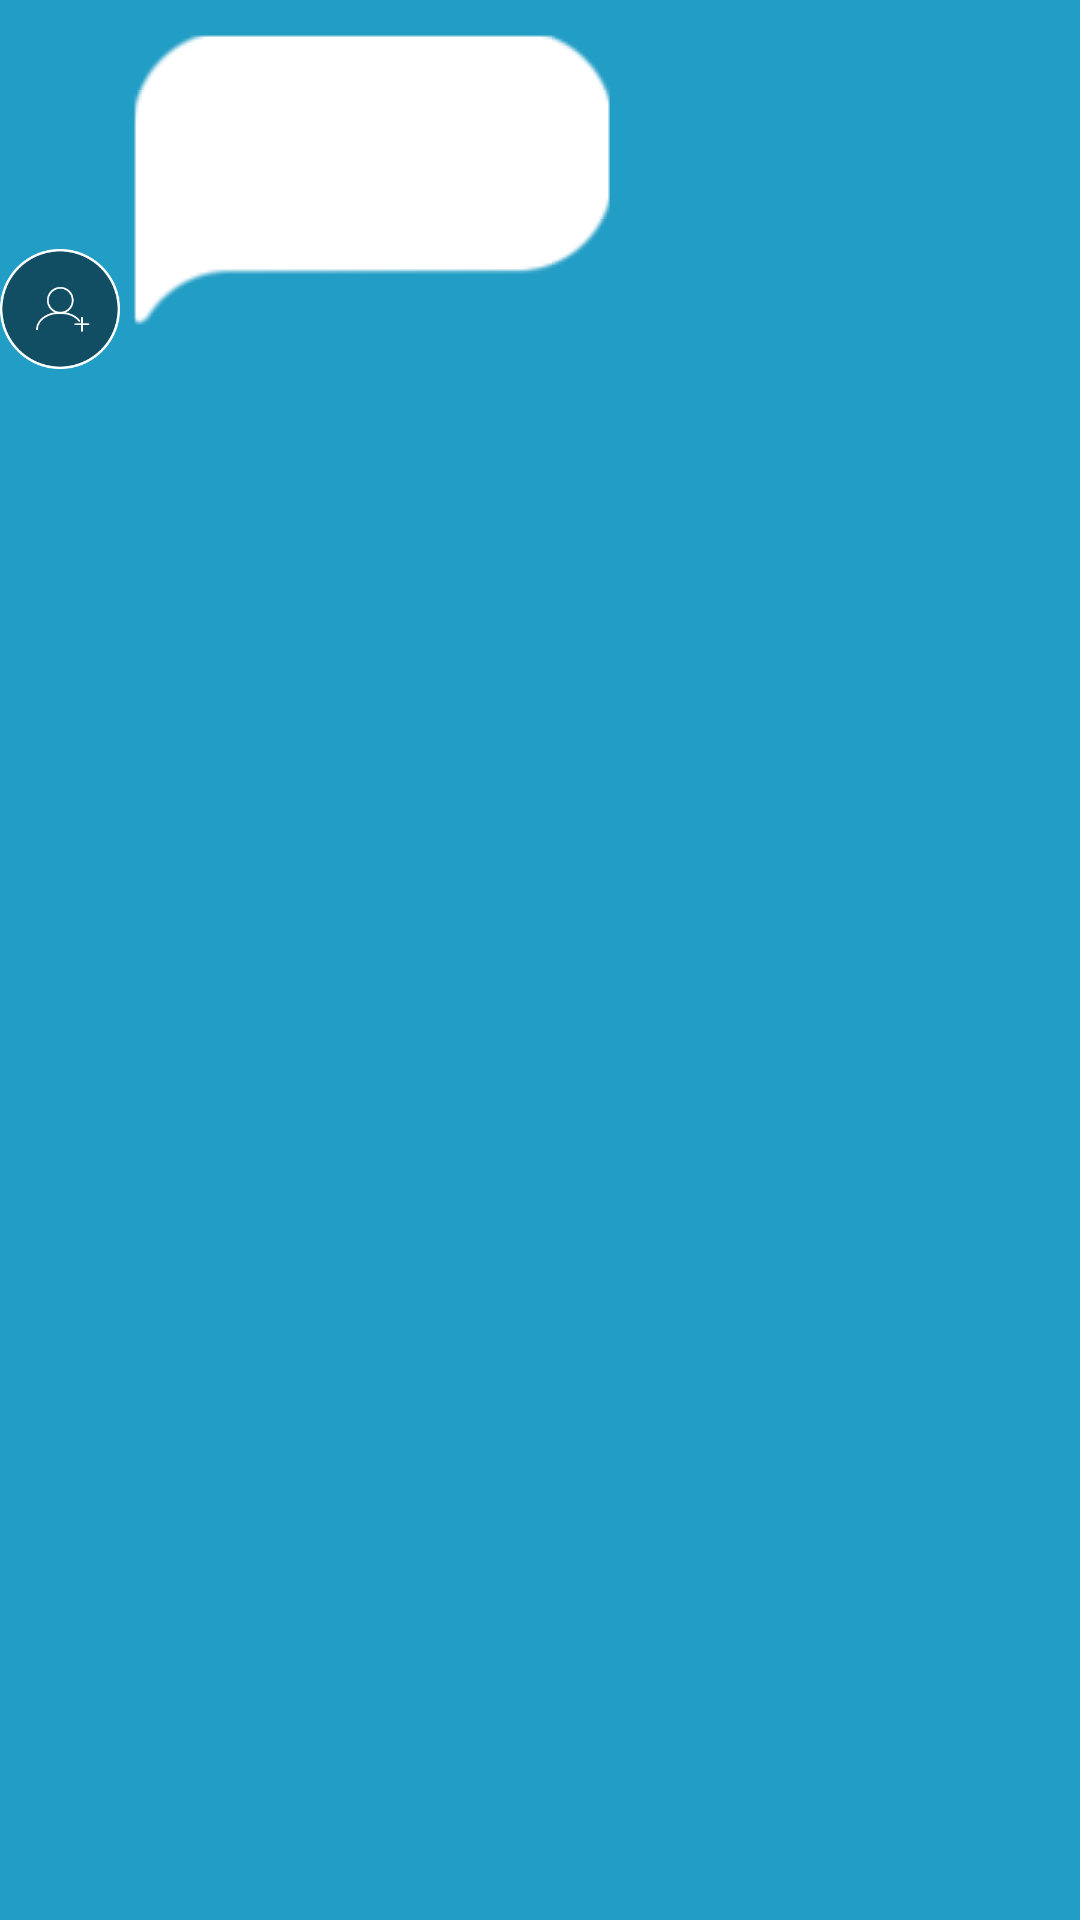

Icon click points for this 1080 x 1920 phone screenshot, format [x,y]:
personal: [60,309]
